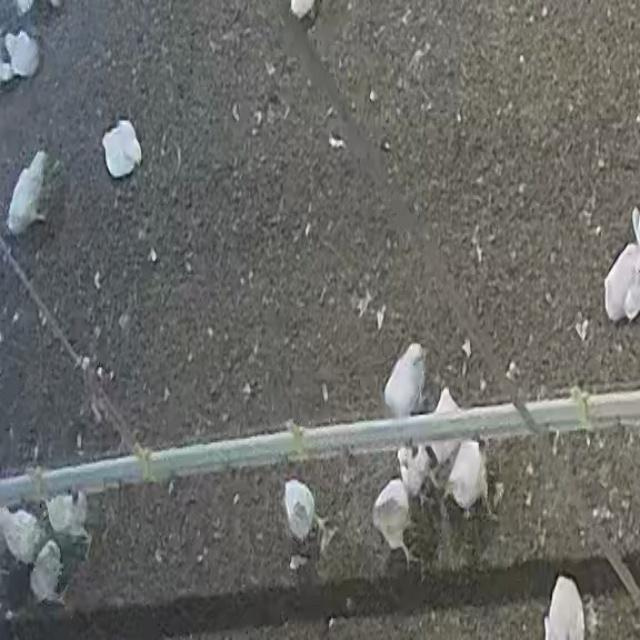chicken: (8, 142, 54, 234), (381, 342, 429, 414), (370, 474, 413, 554), (280, 479, 332, 545), (446, 439, 493, 512), (24, 538, 70, 602), (101, 119, 145, 177), (428, 389, 467, 454), (45, 495, 91, 542)
